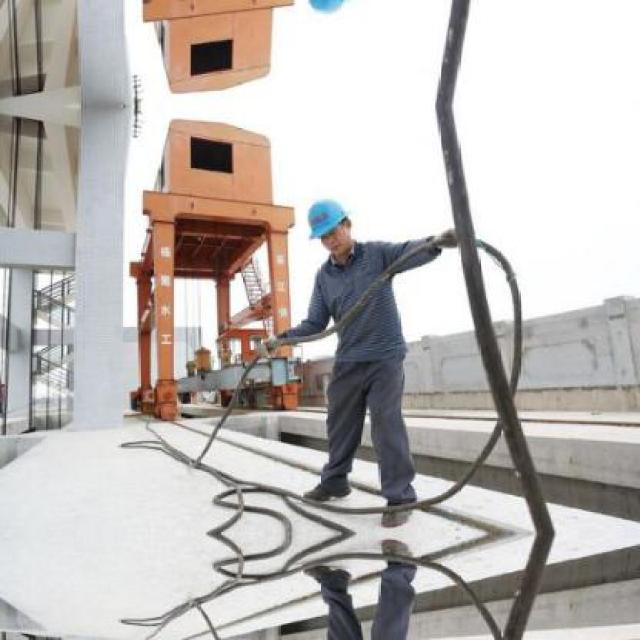helmet: (302, 188, 356, 261), (301, 0, 357, 25)
